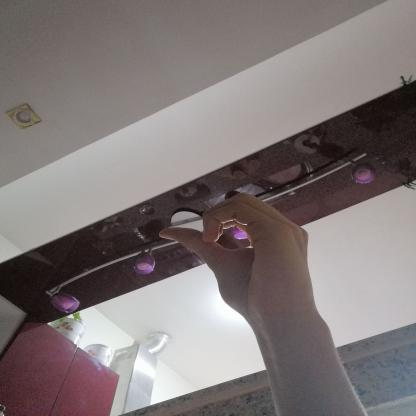WAW: (146, 186, 329, 331)
